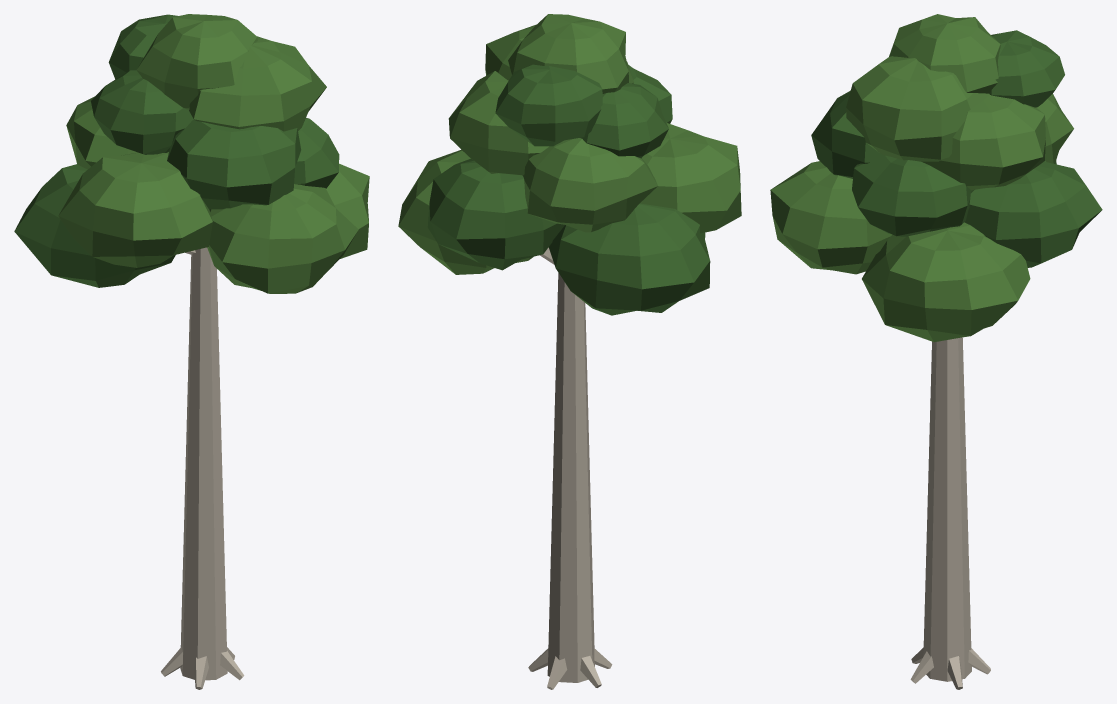
File: tree_toog_huge.glb
3 renders of one model, left to right at view 1: azimuth 30°, elevation 25°; view 2: azimuth 150°, elevation 25°; view 3: azimuth 270°, elevation 25°, orthographic.
Visible parts, largest first — view 1: tree_toog_huge; view 2: tree_toog_huge; view 3: tree_toog_huge.
Boxes of the visible parts, x1,y1,x2,y2 form: tree_toog_huge: [14, 14, 369, 689]; tree_toog_huge: [398, 14, 741, 689]; tree_toog_huge: [770, 14, 1102, 689].
Bounding box in the file's own units: 16.76 × 33.35 × 15.43.
